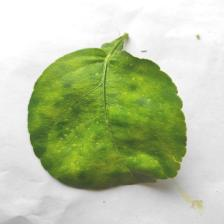greening: (53, 72, 160, 150)
